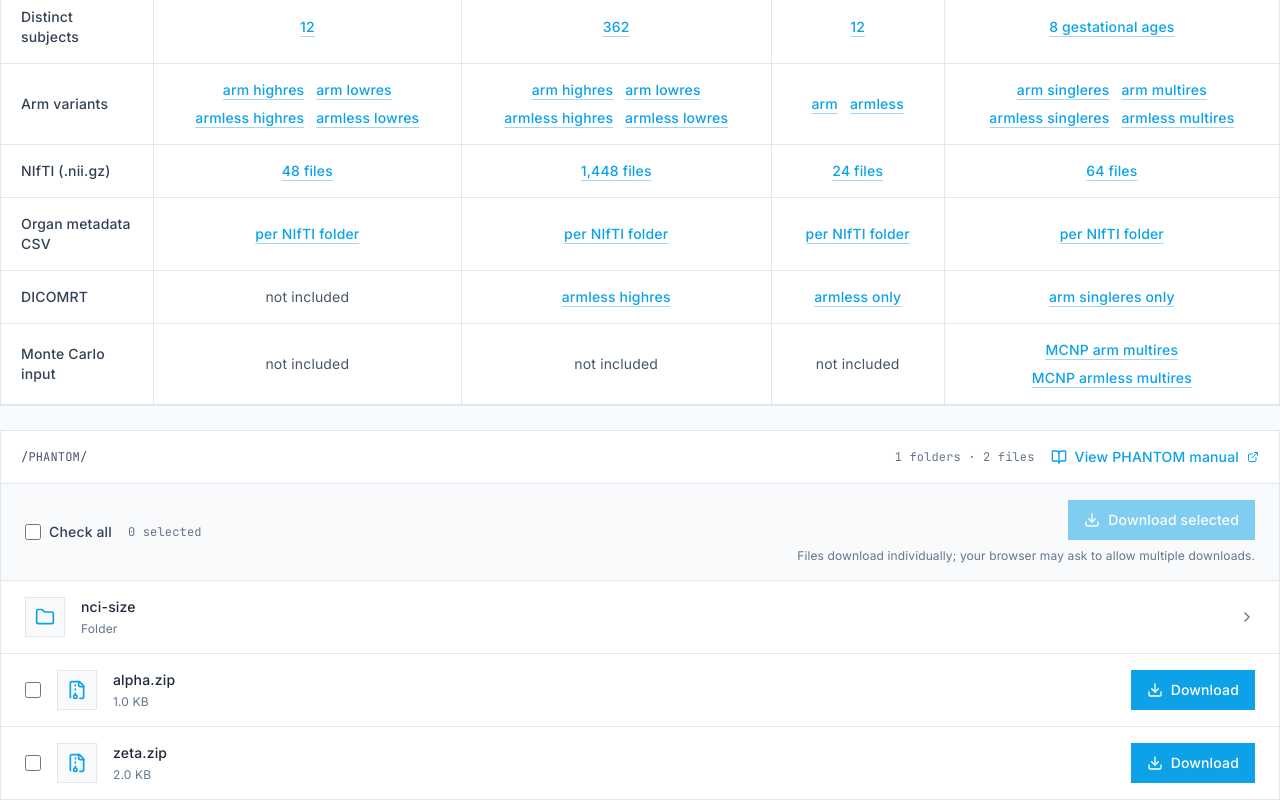
Test: portal migration experience › shows folders first and downloads checked files together
(page scrolled)
Click the checkbox named "Check all shown files": (33, 532) x1=25 y1=524 x2=41 y2=540
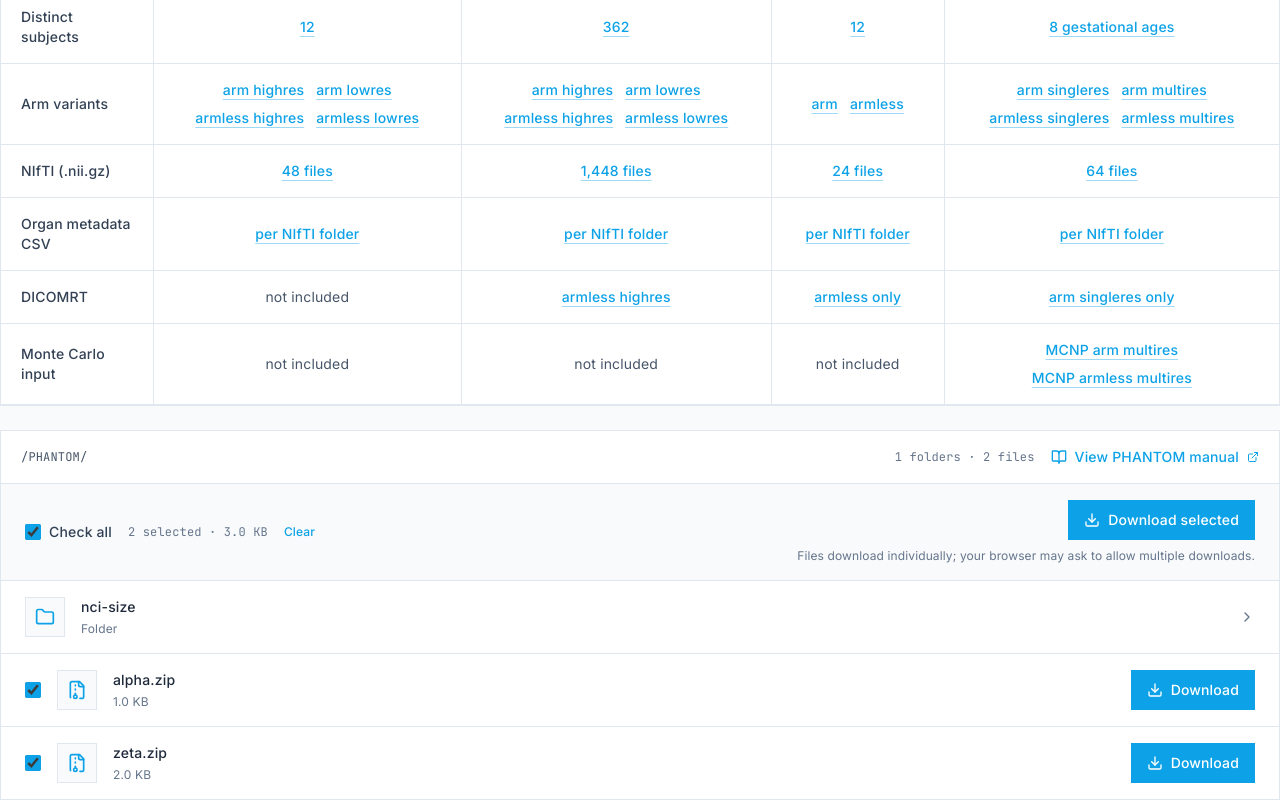
Check: the text "2 selected · 3.0 KB" is shown, box x1=128 y1=524 x2=268 y2=540
Check: the button "Download selected" is enabled, box x1=1068 y1=500 x2=1255 y2=540
